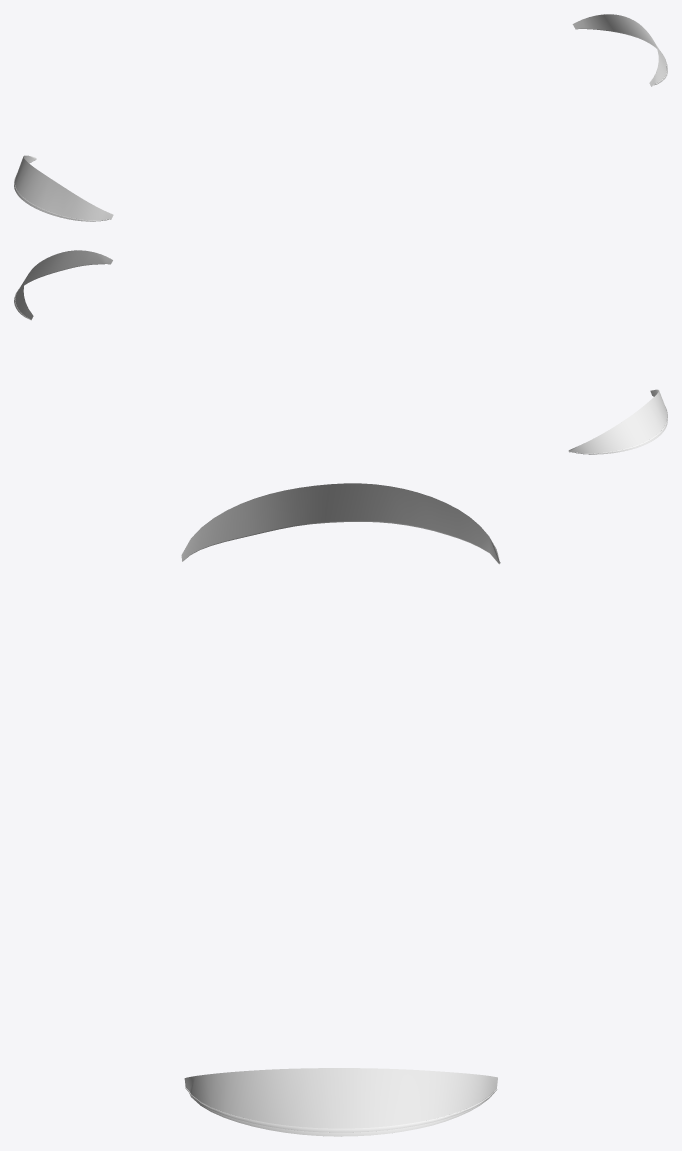
Rendered from Jac_Flic_HANDS_V2.glb.
The picture shows the model from 3 angles, top to bottom: view 1: azimuth 30°, elevation 25°; view 2: azimuth 150°, elevation 25°; view 3: azimuth 270°, elevation 25°; orthographic projection. The views are drawn at different scales.
Visible parts, largest first — view 1: Jac_Flic_HANDS.001; view 2: Jac_Flic_HANDS.001; view 3: Jac_Flic_HANDS.001, Jac_Rope_Flic_HANDS.001.
Boxes of the visible parts, x1,y1,x2,y2 form: Jac_Flic_HANDS.001: (14,14,667,221); Jac_Flic_HANDS.001: (14,250,667,454); Jac_Flic_HANDS.001: (181,483,499,1136); Jac_Rope_Flic_HANDS.001: (185,562,500,1132).
Size of the model in its own units: 1.28 by 0.0547 by 0.2812.
Materials: 2 (2 with a texture image).
